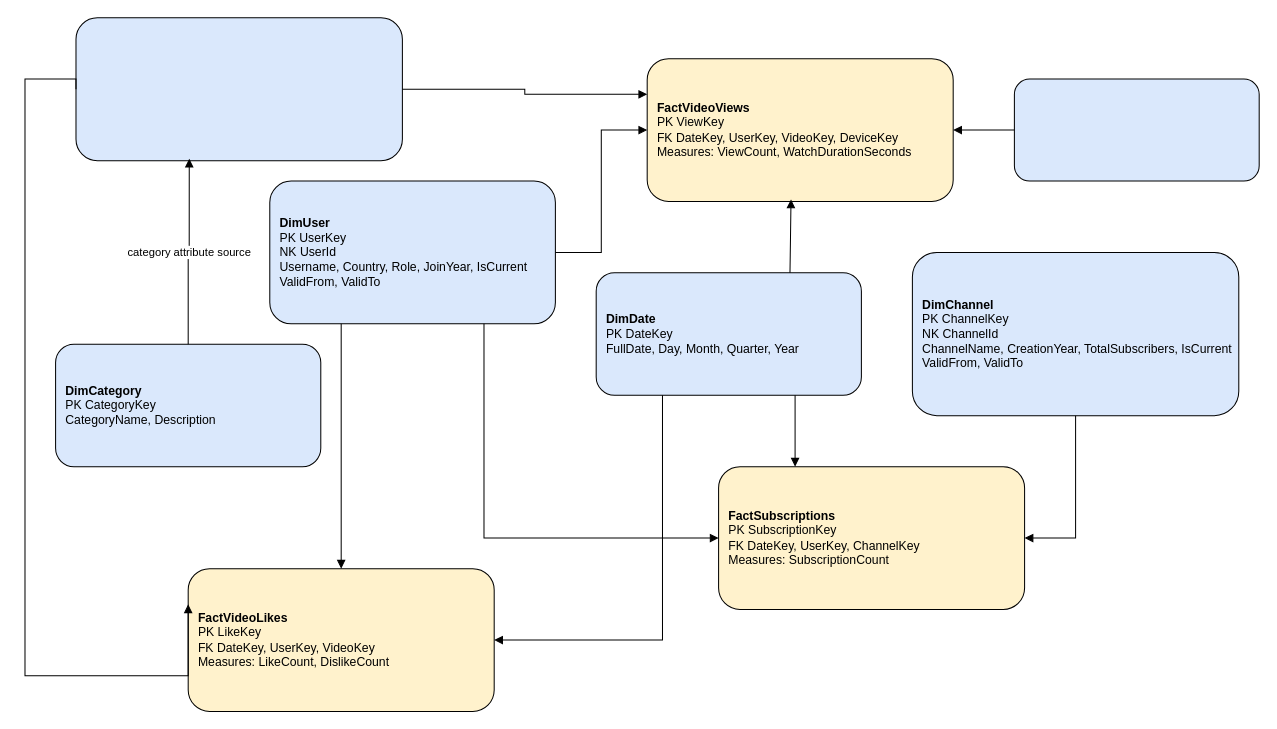
This 1277x729 diagram has some shape labels left out. Each missing label, with the box of its shape:
DimDevice PK DeviceKey DeviceType, OSName: (1013, 78, 1259, 181)
DimVideo PK VideoKey NK VideoId Title, Category, DurationSeconds, ChannelKey: (75, 17, 402, 161)
